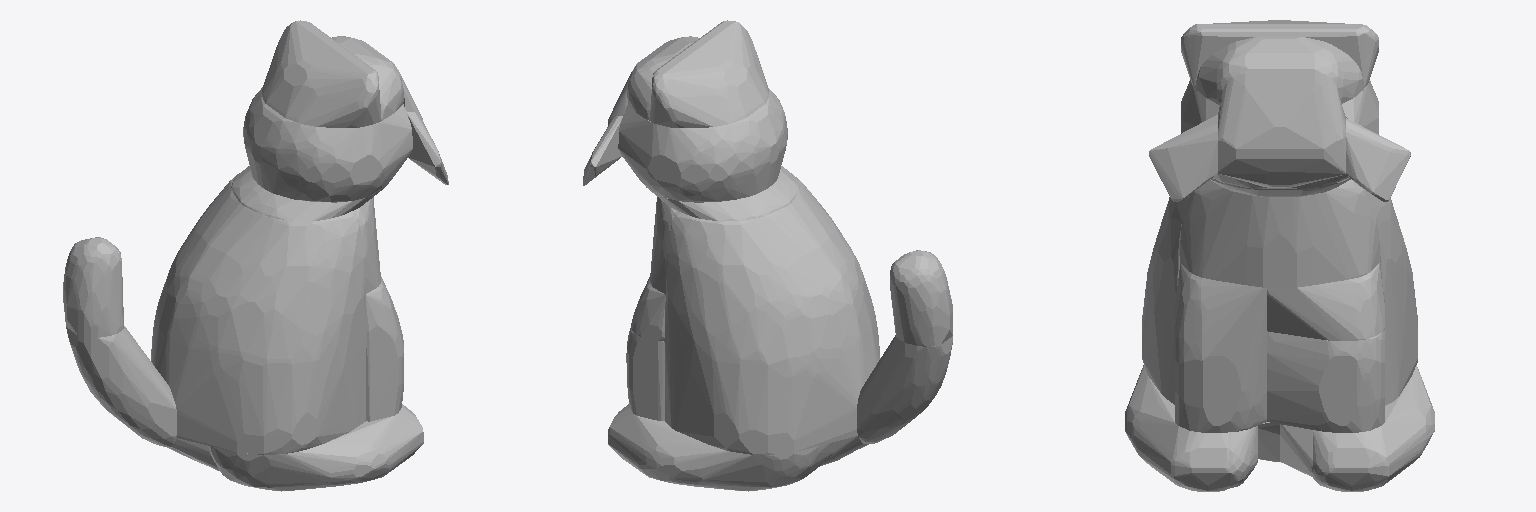
URDF robot description (root):
<?xml version="1.0"?>
<robot name="root">
  <link name="base_link">
    <visual>
      <origin xyz="0 0 0" rpy="0 0 0" />
      <geometry>
        <mesh filename="../meshes/unidex_sem_Cat-2163e8058aaa96a771879a51f4bce289_006.obj" scale="1.0000E+00 1.0000E+00 1.0000E+00" />
      </geometry>
      <material name="">
        <color rgba="7.50E-01 7.50E-01 7.50E-01 1" />
      </material>
    </visual>
    <collision>
      <origin xyz="0 0 0" rpy="0 0 0" />
      <geometry>
        <mesh filename="../meshes/unidex_sem_Cat-2163e8058aaa96a771879a51f4bce289_006.obj" scale="1.0000E+00 1.0000E+00 1.0000E+00" />
      </geometry>
    </collision>
  </link>
</robot>

--- Render facts (derived) ---
3 views of the same robot in one strip: view 1: azimuth 30°, elevation 25°; view 2: azimuth 150°, elevation 25°; view 3: azimuth 270°, elevation 25° (orthographic).
Model root with 1 links and 0 joints (none), rooted at base_link, posed all joints at 0.
Visible links, largest first — view 1: base_link; view 2: base_link; view 3: base_link.
Link boxes in pixels (box(x1,y1,x2,y2)): base_link: box(63, 20, 448, 491); base_link: box(583, 20, 952, 491); base_link: box(1125, 20, 1434, 491).
Bounding box of the posed robot: 0.0855 × 0.0599 × 0.0985 m (x, y, z).
1 mesh visuals loaded from 1 distinct referenced files (1 OBJ).
